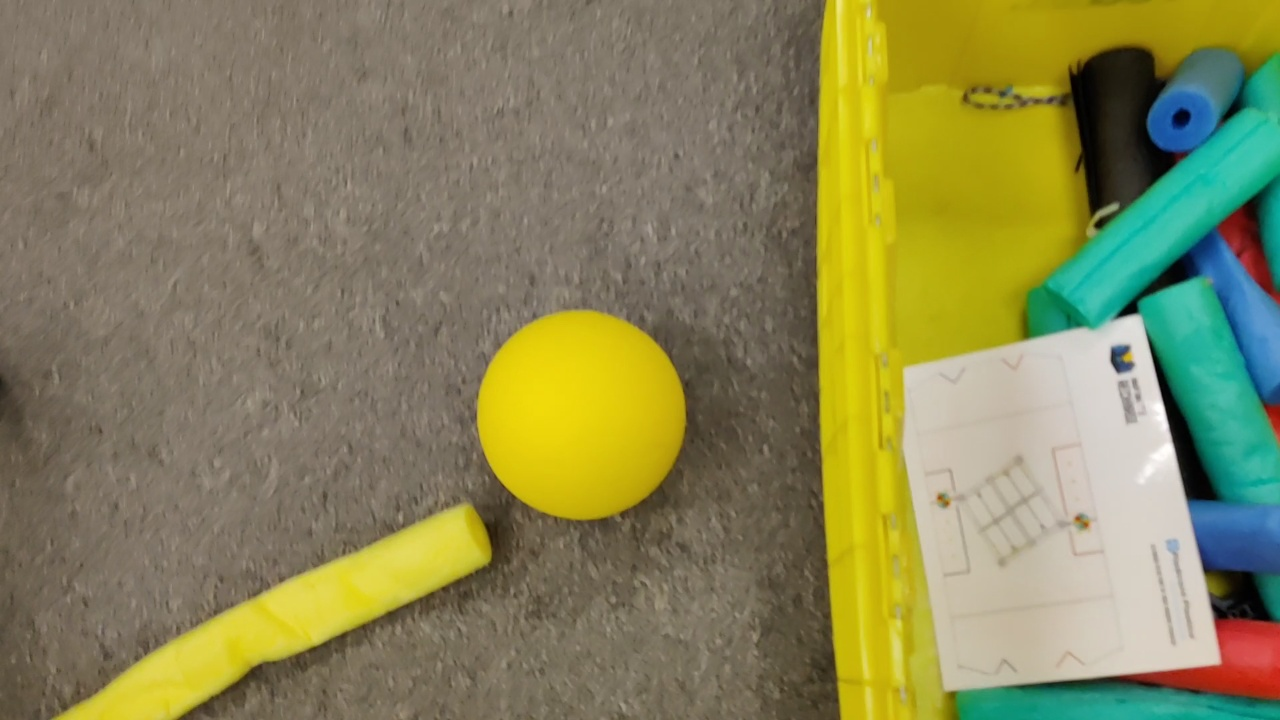Ball: (480, 310, 692, 524)
